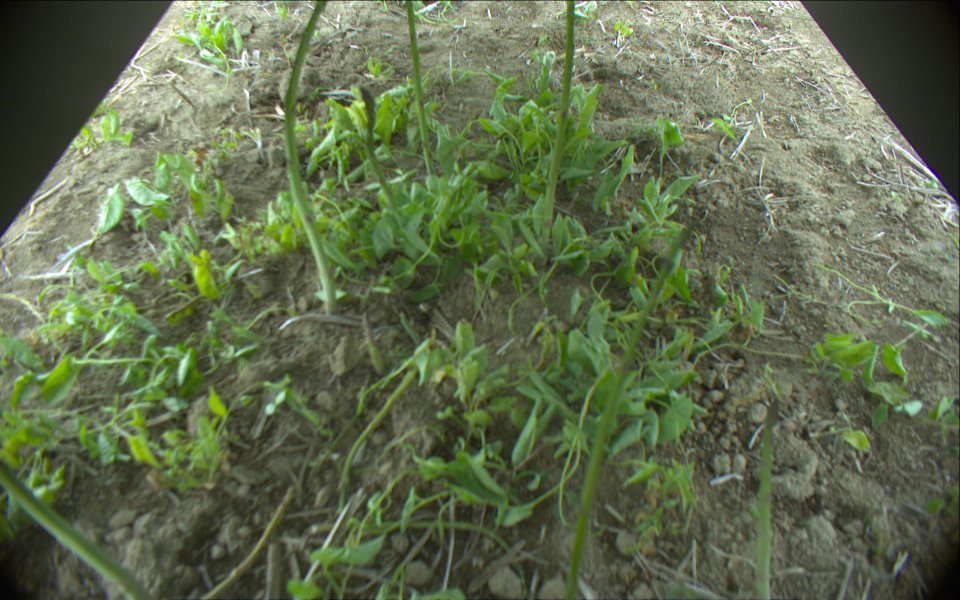aspa: (558, 213, 701, 600), (2, 455, 157, 600), (280, 1, 338, 316), (171, 485, 297, 600), (537, 1, 577, 253), (403, 1, 438, 180), (752, 399, 782, 600), (358, 88, 401, 216)
